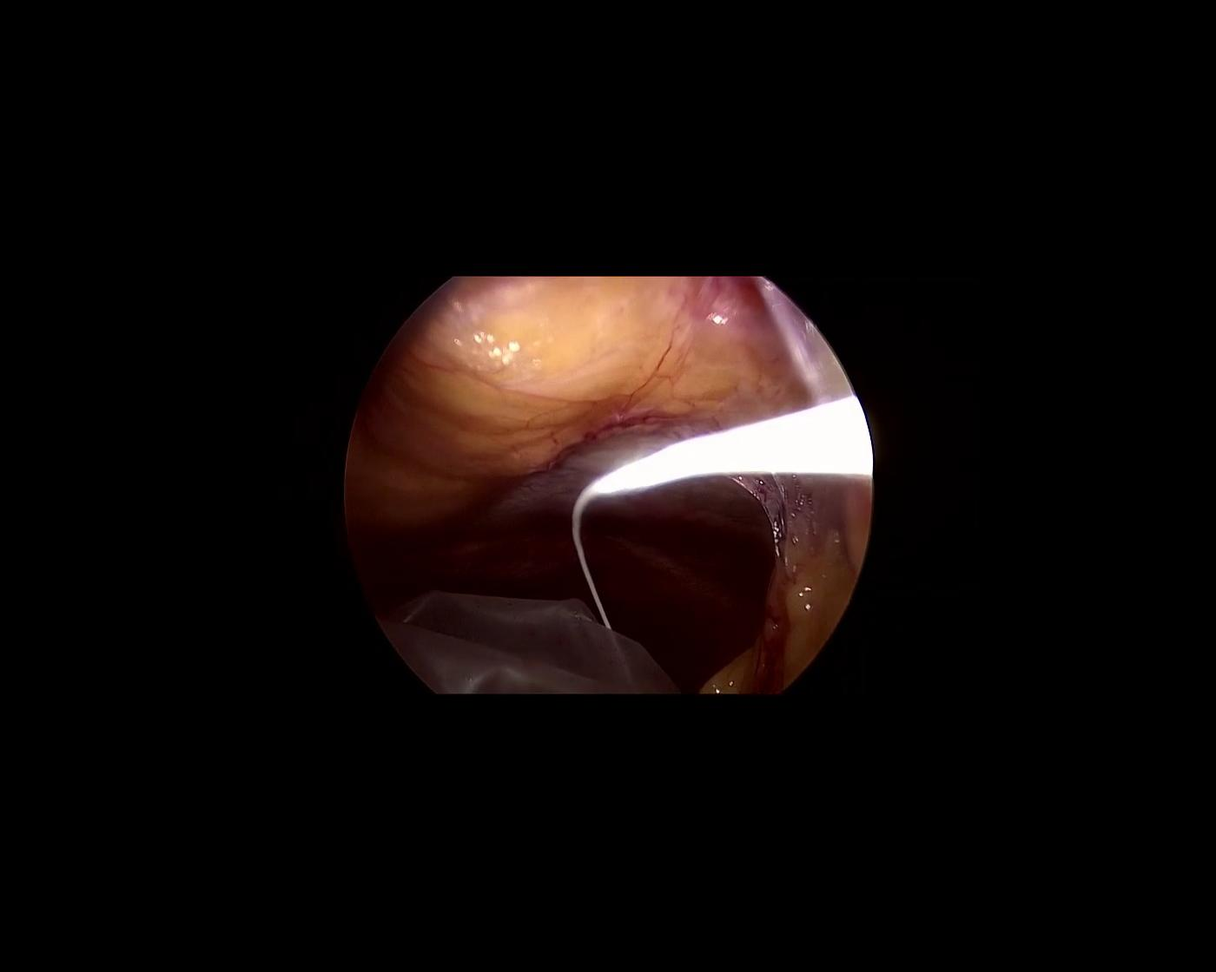Bag: (375, 589, 685, 696)
